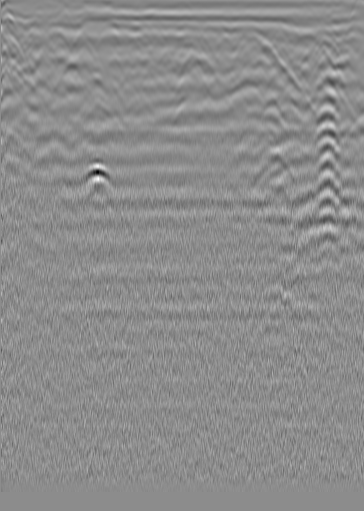가스: (77, 162, 112, 189)
상수: (316, 27, 336, 47)
오수: (21, 29, 41, 49)
우수: (180, 20, 200, 40)
